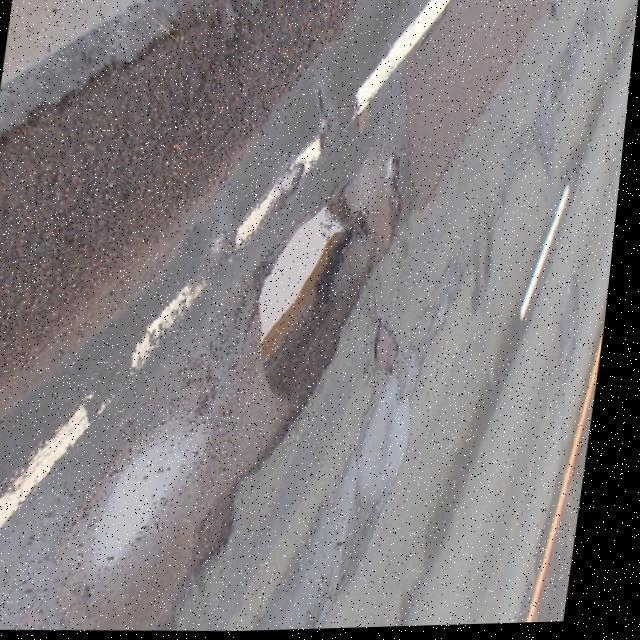Pothole: (260, 148, 400, 402)
